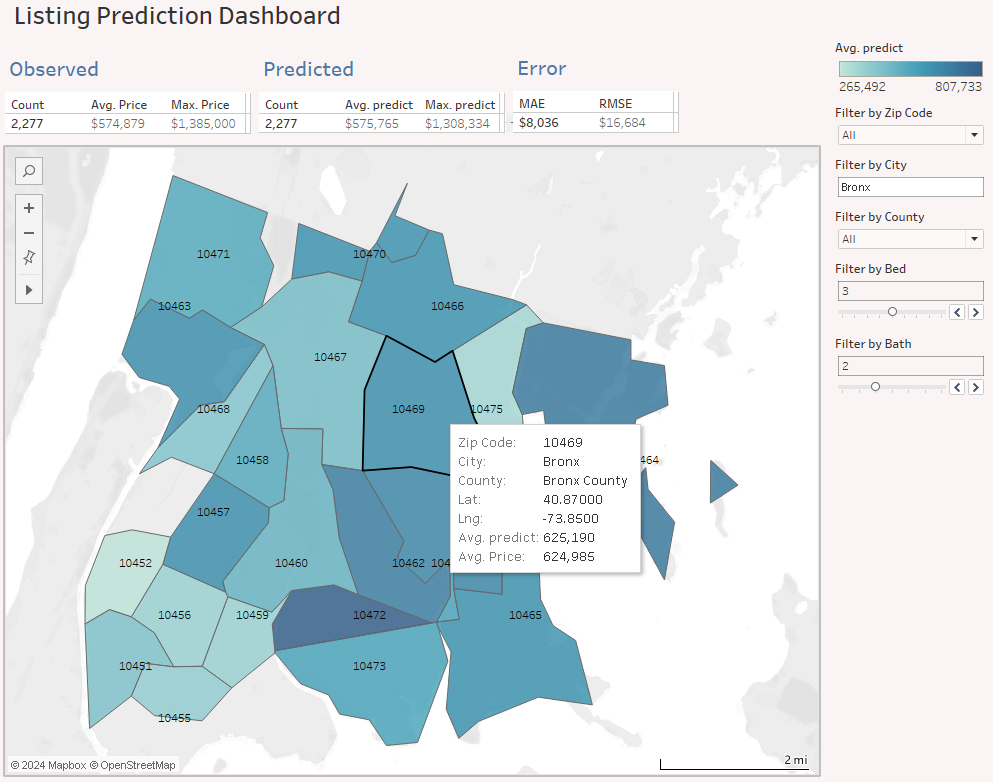

This screenshot's page, from the dashboard's own definition file:
{"tool":"tableau","page":{"name":"dash","canvas":[1000,800],"ordinal":0},"visuals":[{"type":"title","box":[8,8,984,41]},{"type":"legend","title":"map","param":"[federated.0of36ay0s2e50g119byxu0qnftz6].[avg:predict:qk]","box":[832,49,160,65]},{"type":"worksheet","title":"card_error","mark":"Text","rows":["Calculation_5254856350857039876","Calculation_5254856350856474625"],"box":[514,63,211,90]},{"type":"worksheet","title":"card_observed","mark":"Text","rows":["Calculation_5254856351351271442","price","price"],"box":[6,64,255,102]},{"type":"worksheet","title":"card_predicted","mark":"Text","rows":["Calculation_5254856351351271442","predict","predict"],"box":[260,64,333,83]},{"type":"parameter","param":"[Parameters].[Zip Code Parameter]","box":[832,114,160,52]},{"type":"worksheet","title":"map","mark":"Multipolygon","rows":["lat"],"cols":["lng"],"box":[6,161,814,628]},{"type":"parameter","param":"[Parameters].[City Parameter]","box":[832,166,160,52]},{"type":"parameter","param":"[Parameters].[County Parameter]","box":[832,218,160,52]},{"type":"parameter","param":"[Parameters].[Filter by Bath (copy)_5254856351207755789]","box":[832,270,160,75]},{"type":"parameter","param":"[Parameters].[Bath (bin) Parameter]","box":[832,345,160,75]}]}

Visuals, with their boxes in screenshot pixels (x1, y1, x2, y2), scaled from the page's 1000x800 canvas onto the 993x782 screenshot:
title: [8,8,985,48]
"map" legend: [826,48,985,111]
"card_error" worksheet (Text marks): [510,62,720,150]
"card_observed" worksheet (Text marks): [6,63,259,162]
"card_predicted" worksheet (Text marks): [258,63,589,144]
parameter: [826,111,985,162]
"map" worksheet (Multipolygon marks): [6,157,814,771]
parameter: [826,162,985,213]
parameter: [826,213,985,264]
parameter: [826,264,985,337]
parameter: [826,337,985,411]
